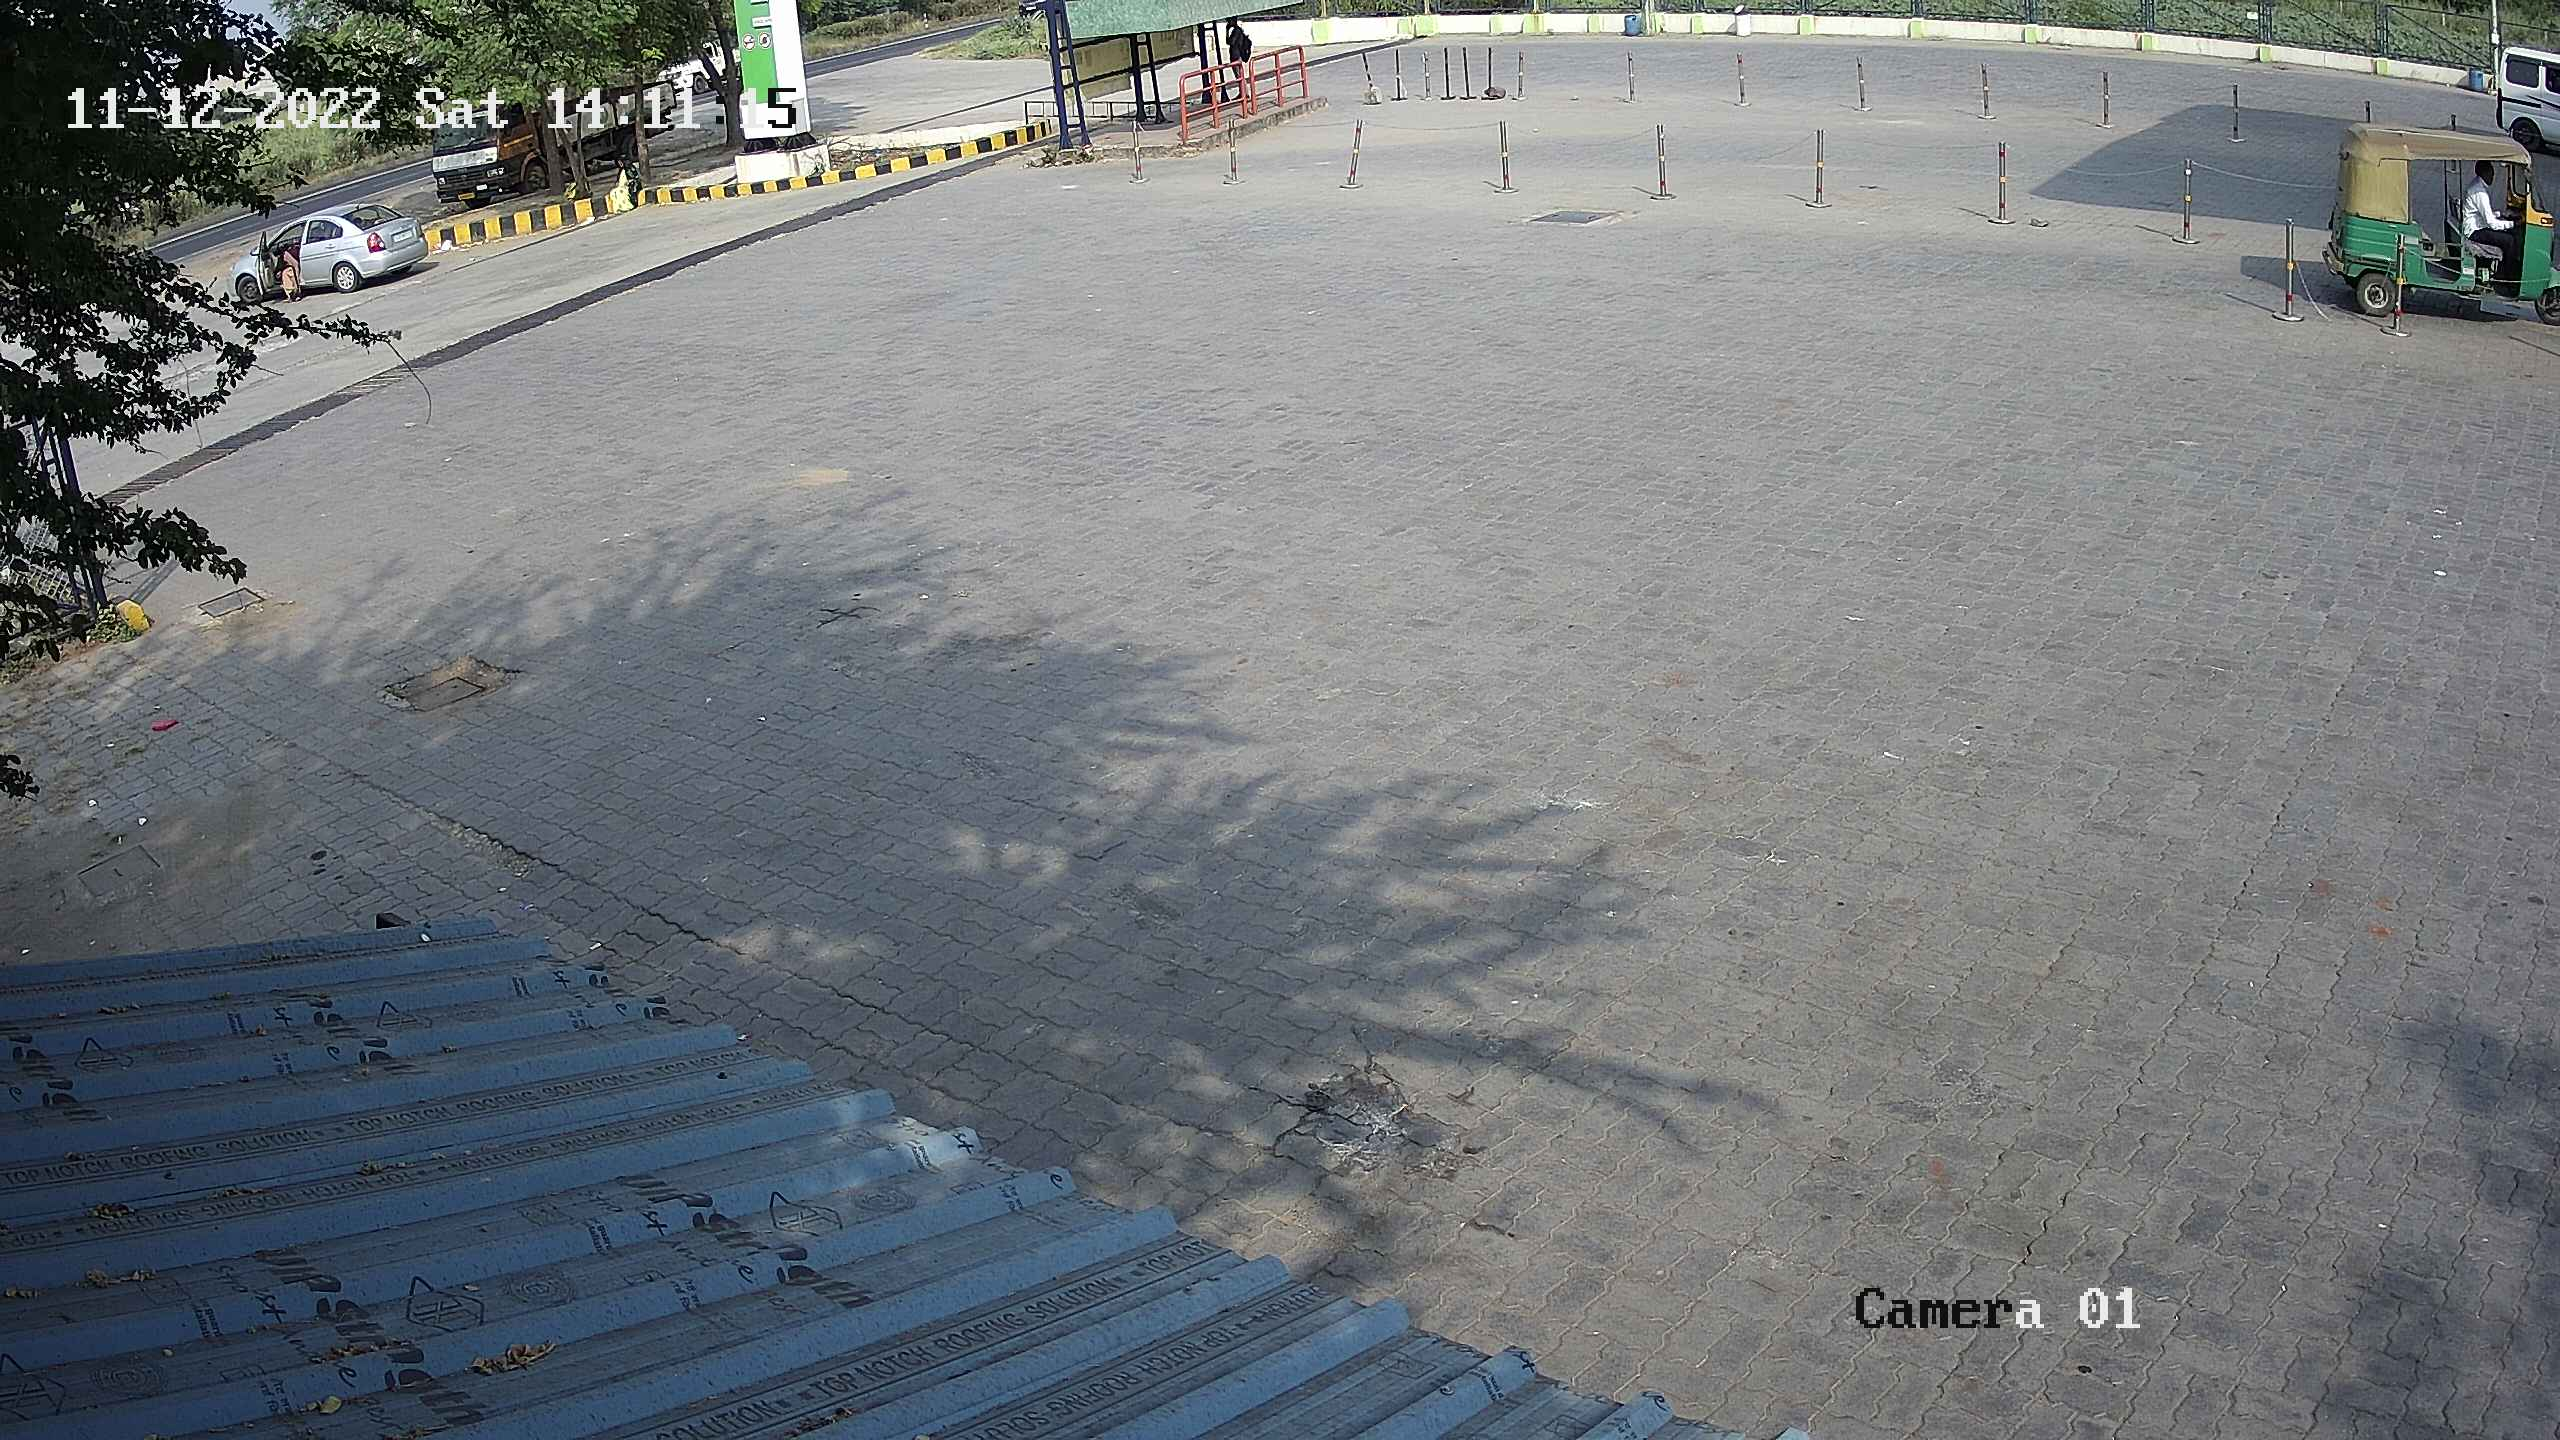Auto: (2302, 118, 2558, 346)
Car: (230, 185, 443, 306), (2449, 26, 2560, 176)
HMV: (411, 55, 559, 229)
